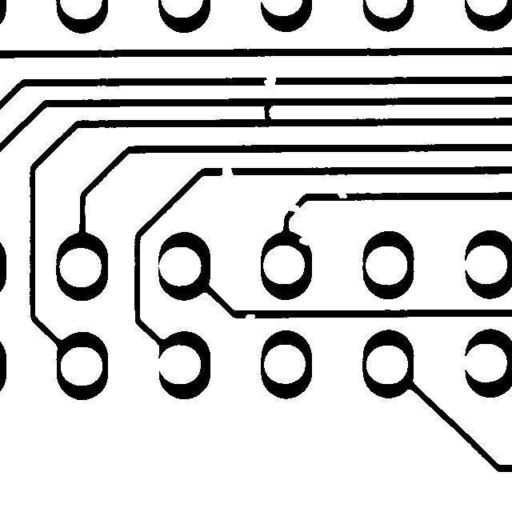mousebite: (291, 230, 316, 253), (330, 184, 354, 206), (238, 306, 262, 327)
open: (214, 158, 241, 185), (256, 68, 283, 93), (279, 196, 306, 219)
short: (256, 97, 278, 132)
